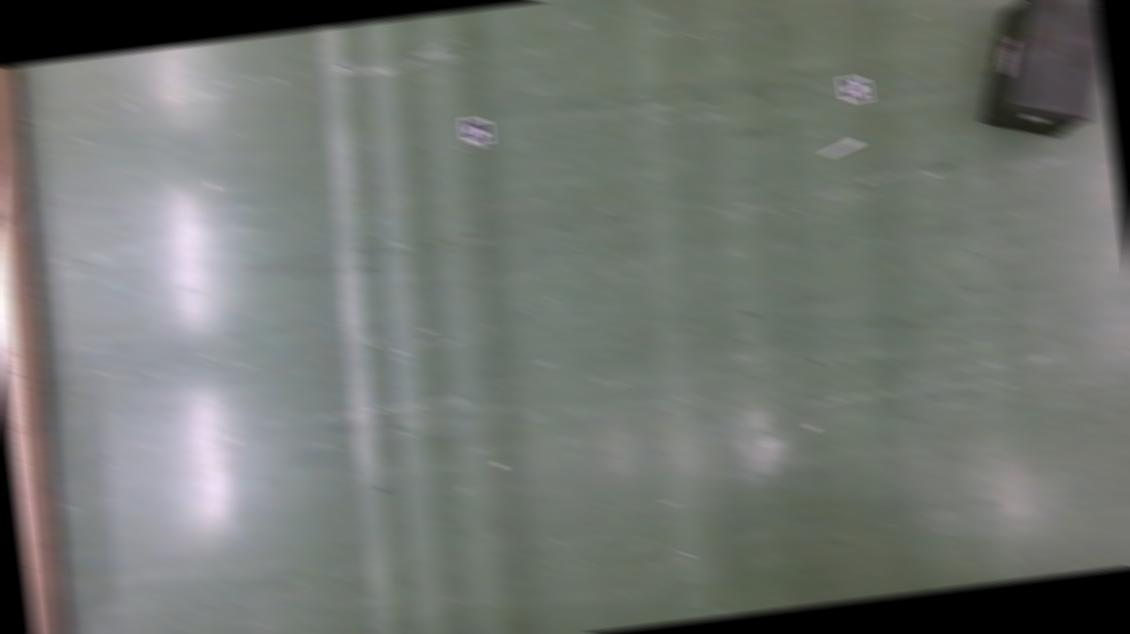probes: (820, 138, 861, 158)
rako: (964, 0, 1113, 146)
